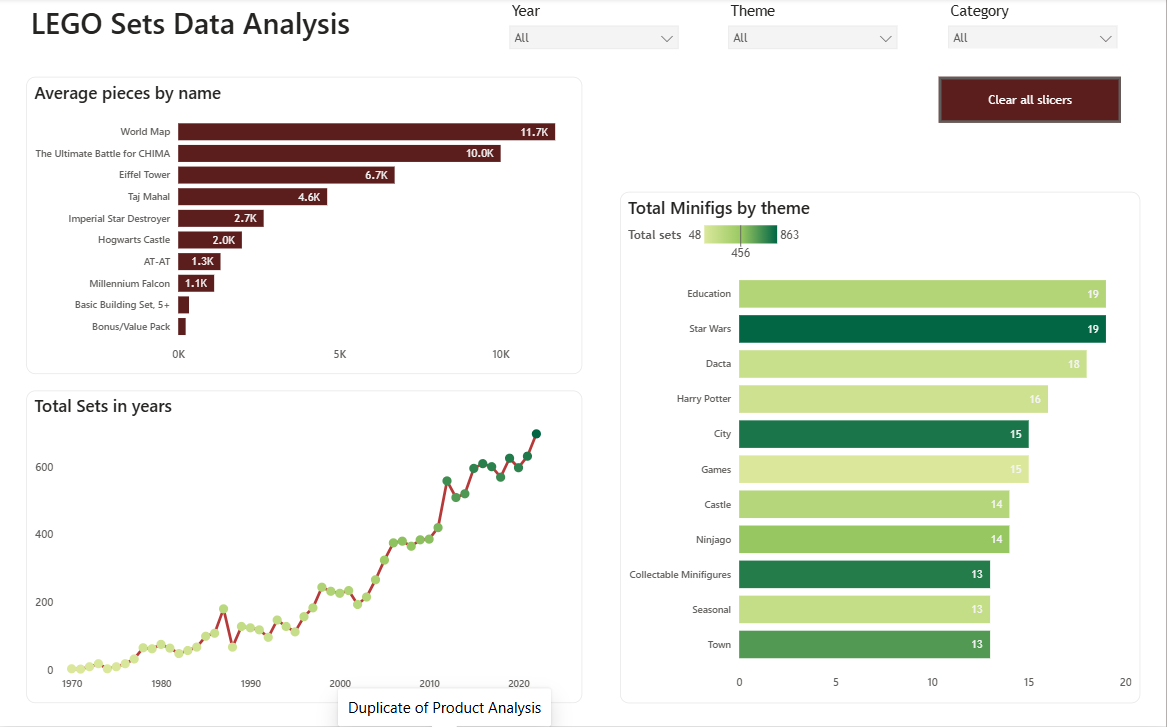

The dashboard page shown, as its layout file describes it:
{"tool":"powerbi","page":{"name":"Duplicate of Product Analysis ","canvas":[1280,800],"ordinal":1},"visuals":[{"type":"textbox","box":[29.5,0,366,67],"z":0},{"type":"slicer","fields":{"Values":["lego_sets.year"]},"box":[548.8,0,206,64.5],"z":1000},{"type":"slicer","fields":{"Values":["lego_sets.category"]},"box":[1030,0,206,55],"z":2000},{"type":"slicer","fields":{"Values":["lego_sets.theme"]},"box":[789.4,0,206,67.6],"z":3000},{"type":"lineChart","title":"Total Sets in years","fields":{"Y":["Measures (2).Total sets"],"Category":["lego_sets.year"]},"box":[28.8,430.9,610.6,343.1],"z":5000},{"type":"barChart","fields":{"Category":["lego_sets.name"],"Y":["Measures (2).Average pieces"]},"box":[28.8,86.4,610.6,326.6],"z":6000},{"type":"barChart","fields":{"Y":["Measures (2).Total Minifigs"],"Category":["lego_sets.theme"]},"box":[680.6,212.7,570.8,561.2],"z":7000},{"type":"actionButton","box":[1030.5,86.4,200.3,50.8],"z":7001}]}

Visuals, with their boxes in screenshot pixels (x1, y1, x2, y2), scaled from the page's 1280x800 canvas onto the 1167x727 screenshot:
textbox: <bbox>27, 0, 361, 61</bbox>
slicer - lego_sets.year: <bbox>500, 0, 688, 59</bbox>
slicer - lego_sets.category: <bbox>939, 0, 1127, 50</bbox>
slicer - lego_sets.theme: <bbox>720, 0, 908, 61</bbox>
"Total Sets in years" lineChart: <bbox>26, 392, 583, 703</bbox>
barChart - lego_sets.name x Measures (2).Average pieces: <bbox>26, 79, 583, 375</bbox>
barChart - Measures (2).Total Minifigs x lego_sets.theme: <bbox>621, 193, 1141, 703</bbox>
actionButton: <bbox>940, 79, 1122, 125</bbox>
